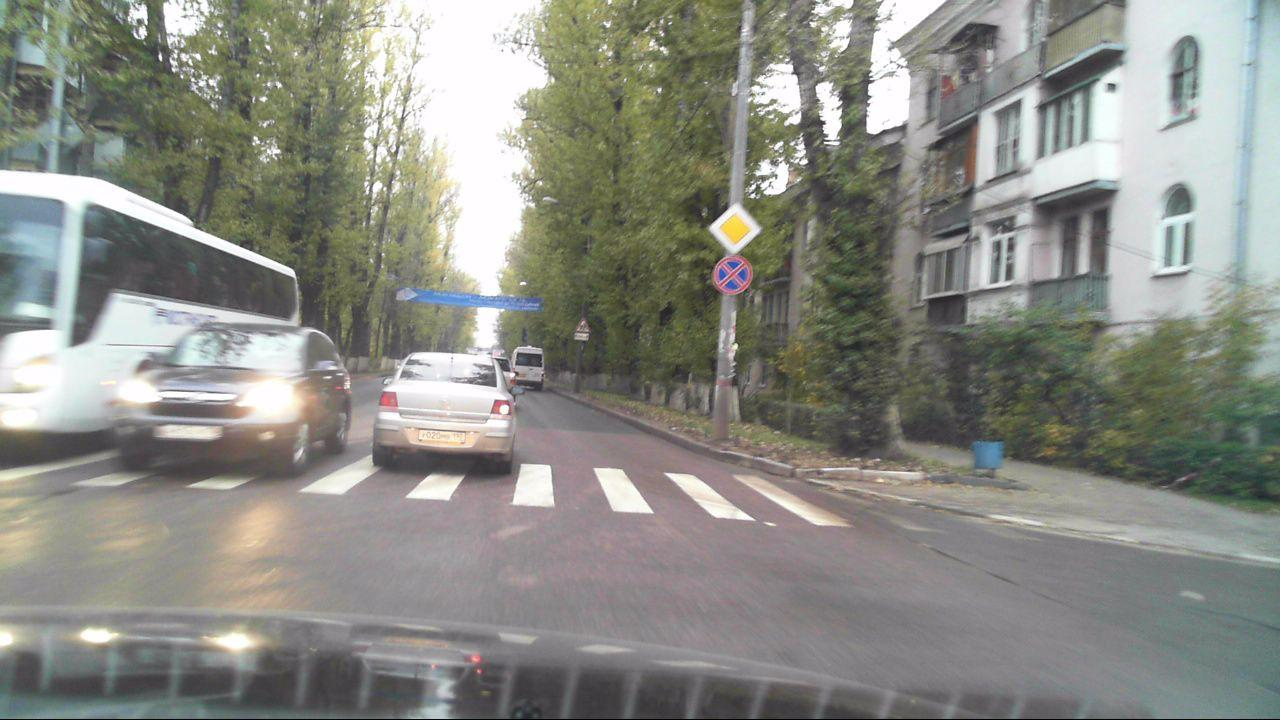road_sign: (706, 201, 764, 257), (714, 255, 753, 295)
